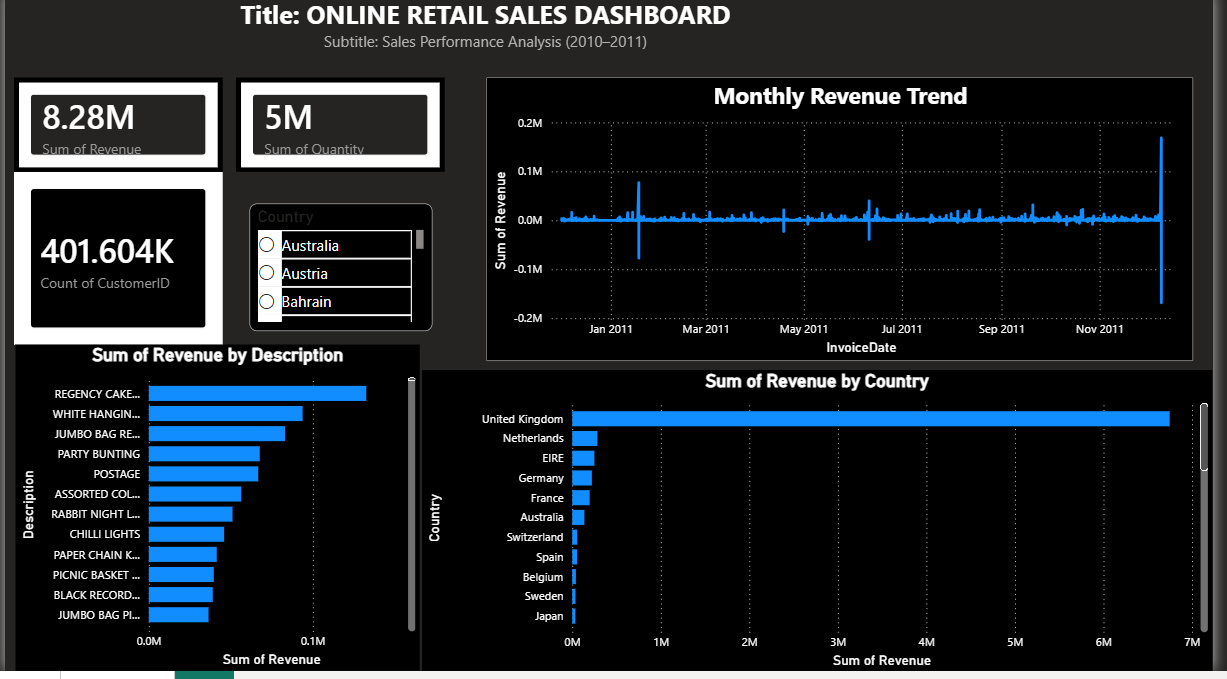

The dashboard page shown, as its layout file describes it:
{"tool":"powerbi","page":{"name":"Page 1","canvas":[1280,720],"ordinal":0},"visuals":[{"type":"textbox","box":[10,0,1000,70],"z":0},{"type":"cardVisual","fields":{"Data":["Sum(cleaned_online_retail.Revenue)"]},"box":[9.4,90.7,221.1,100.2],"z":1000},{"type":"cardVisual","fields":{"Data":["Sum(cleaned_online_retail.Quantity)"]},"box":[245.7,90.7,221.1,100.2],"z":2000},{"type":"lineChart","title":"Monthly Revenue Trend","fields":{"Category":["cleaned_online_retail.InvoiceDate"],"Y":["Sum(cleaned_online_retail.Revenue)"]},"box":[510.6,90.7,749.2,300.6],"z":3000},{"type":"clusteredBarChart","fields":{"Category":["cleaned_online_retail.Country"],"Y":["Sum(cleaned_online_retail.Revenue)"]},"box":[442.2,400.8,838.3,319.7],"z":3001},{"type":"cardVisual","fields":{"Data":["CountNonNull(cleaned_online_retail.CustomerID)"]},"box":[9,191,221,183],"z":3002},{"type":"clusteredBarChart","fields":{"Category":["cleaned_online_retail.Description"],"Y":["Sum(cleaned_online_retail.Revenue)"]},"box":[11.3,374.2,429,345.8],"z":3003},{"type":"listSlicer","fields":{"Values":["cleaned_online_retail.Country"]},"box":[258.9,224.7,194.2,135.2],"z":3004}]}

Visuals, with their boxes in screenshot pixels (x1, y1, x2, y2), scaled from the page's 1280x720 canvas onto the 1227x679 screenshot:
textbox: <bbox>10, 0, 968, 66</bbox>
cardVisual - Sum(cleaned_online_retail.Revenue): <bbox>9, 86, 221, 180</bbox>
cardVisual - Sum(cleaned_online_retail.Quantity): <bbox>236, 86, 447, 180</bbox>
"Monthly Revenue Trend" lineChart: <bbox>489, 86, 1208, 369</bbox>
clusteredBarChart - cleaned_online_retail.Country x Sum(cleaned_online_retail.Revenue): <bbox>424, 378, 1226, 678</bbox>
cardVisual - CountNonNull(cleaned_online_retail.CustomerID): <bbox>9, 180, 220, 353</bbox>
clusteredBarChart - cleaned_online_retail.Description x Sum(cleaned_online_retail.Revenue): <bbox>11, 353, 422, 678</bbox>
listSlicer - cleaned_online_retail.Country: <bbox>248, 212, 434, 339</bbox>
